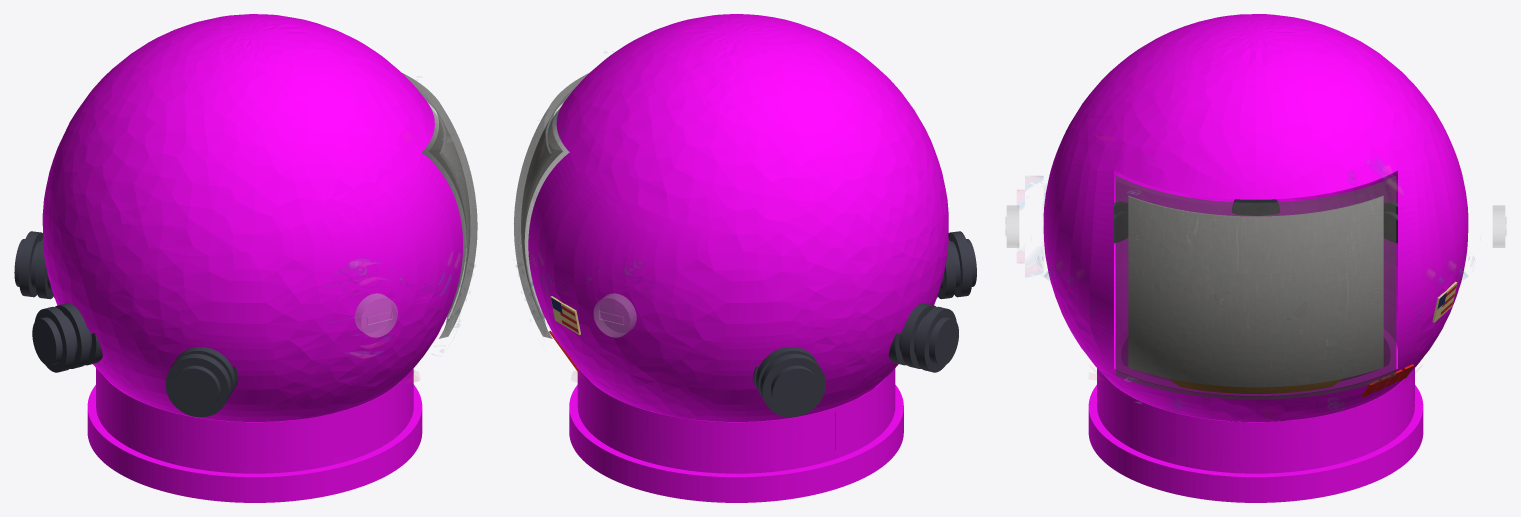
File: Astronomy_Astronaut_helmet__0021.glb
3 views of the same model, side by side, from view 1: azimuth 30°, elevation 25°; view 2: azimuth 150°, elevation 25°; view 3: azimuth 270°, elevation 25° (orthographic).
Parts seen in each view (by area): view 1: shell::shell_body, shell::neck_collar, shell::neck_seat, shell::port_2, visor::visor_bubble, shell::port_1, inner_visor::inner_visor_lens, shell::port_0, visor::pivot_knob_1, visor::visor_frame; view 2: shell::shell_body, shell::neck_collar, shell::neck_seat, shell::port_0, visor::visor_bubble, shell::port_1, inner_visor::inner_visor_lens, shell::port_2, visor::pivot_knob_0; view 3: shell::shell_body, visor::visor_bubble, inner_visor::inner_visor_lens, shell::neck_collar, shell::neck_seat, visor::visor_frame, shell::interior_lip, shell::port_1, visor::pivot_knob_0, visor::pivot_knob_1.
Boxes of the visible parts, x1=… form: shell::shell_body: x1=42, y1=14, x2=462, y2=421; shell::neck_collar: x1=87, y1=368, x2=422, y2=502; shell::neck_seat: x1=96, y1=368, x2=413, y2=467; shell::port_2: x1=165, y1=347, x2=238, y2=417; visor::visor_bubble: x1=402, y1=73, x2=477, y2=338; shell::port_1: x1=32, y1=303, x2=102, y2=372; inner_visor::inner_visor_lens: x1=422, y1=102, x2=469, y2=318; shell::port_0: x1=14, y1=231, x2=54, y2=299; visor::pivot_knob_1: x1=355, y1=293, x2=397, y2=337; visor::visor_frame: x1=339, y1=110, x2=475, y2=382; shell::shell_body: x1=528, y1=14, x2=948, y2=421; shell::neck_collar: x1=569, y1=371, x2=903, y2=502; shell::neck_seat: x1=577, y1=368, x2=895, y2=467; shell::port_0: x1=753, y1=347, x2=825, y2=417; visor::visor_bubble: x1=514, y1=73, x2=588, y2=338; shell::port_1: x1=888, y1=303, x2=958, y2=372; inner_visor::inner_visor_lens: x1=521, y1=102, x2=569, y2=318; shell::port_2: x1=937, y1=231, x2=976, y2=299; visor::pivot_knob_0: x1=594, y1=293, x2=636, y2=337; shell::shell_body: x1=1043, y1=14, x2=1468, y2=421; visor::visor_bubble: x1=1115, y1=176, x2=1396, y2=399; inner_visor::inner_visor_lens: x1=1128, y1=196, x2=1383, y2=386; shell::neck_collar: x1=1088, y1=329, x2=1423, y2=502; shell::neck_seat: x1=1097, y1=329, x2=1414, y2=467; visor::visor_frame: x1=1017, y1=161, x2=1469, y2=414; shell::interior_lip: x1=1170, y1=379, x2=1341, y2=393; shell::port_1: x1=1232, y1=199, x2=1279, y2=215; visor::pivot_knob_0: x1=1493, y1=205, x2=1506, y2=247; visor::pivot_knob_1: x1=1005, y1=205, x2=1018, y2=247.
Size of the model in its own units: 0.3443 by 0.325 by 0.3708.
Materials: 16 (3 with a texture image).
